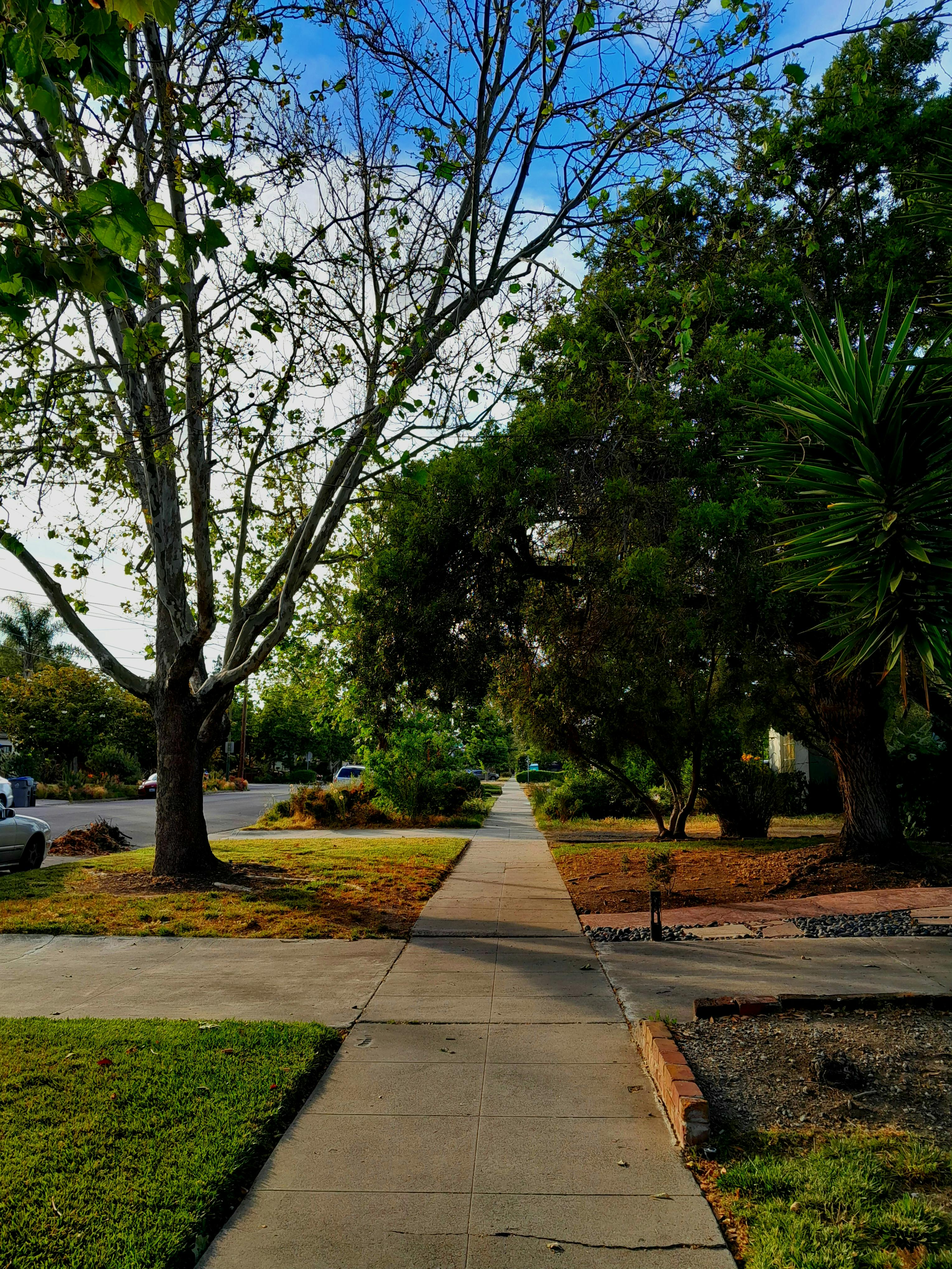Tree: (0, 0, 408, 930), (566, 60, 943, 853)
